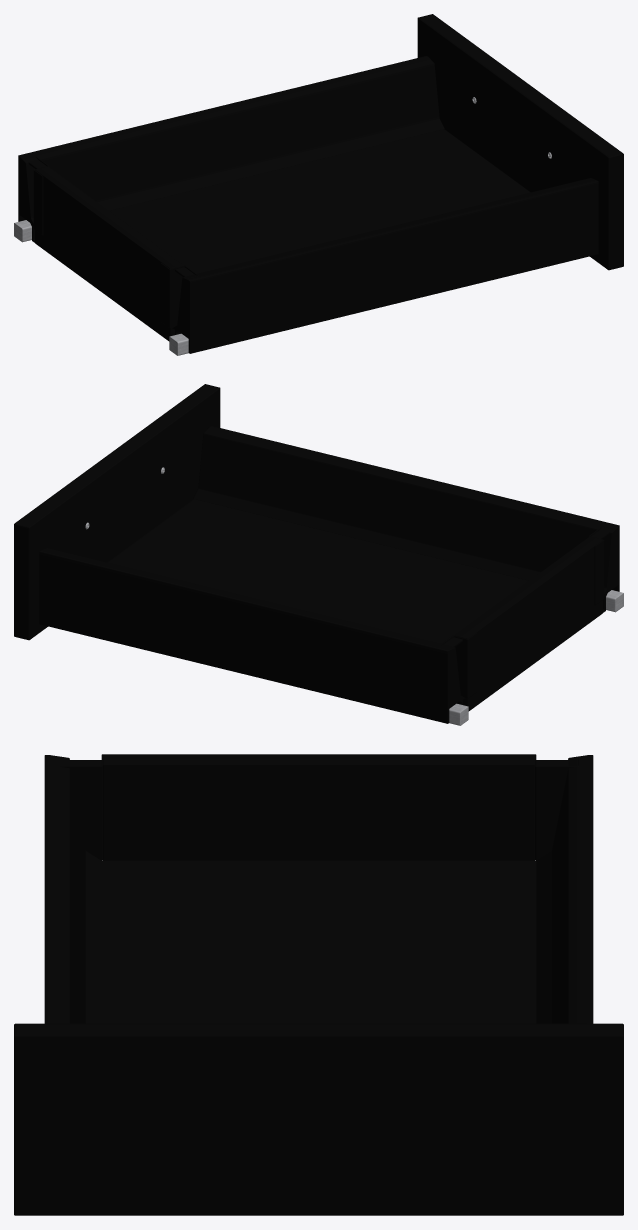
The model's file is IAIKitchenDrawerW40H13.dae.
3 renders of one model, top to bottom at view 1: azimuth 30°, elevation 25°; view 2: azimuth 150°, elevation 25°; view 3: azimuth 270°, elevation 25°, orthographic. The views are drawn at different scales.
Visible parts, largest first — view 1: SM_Kitchen_06_Base_Drawer_01; view 2: SM_Kitchen_06_Base_Drawer_01; view 3: SM_Kitchen_06_Base_Drawer_01.
Part boxes in pixels (x1,y1,x2,y2): SM_Kitchen_06_Base_Drawer_01: (14, 14, 623, 355); SM_Kitchen_06_Base_Drawer_01: (14, 384, 623, 725); SM_Kitchen_06_Base_Drawer_01: (14, 754, 623, 1215).
Bounding box in the file's own units: 0.5199 × 0.398 × 0.13.
4 materials, 1 textured.
